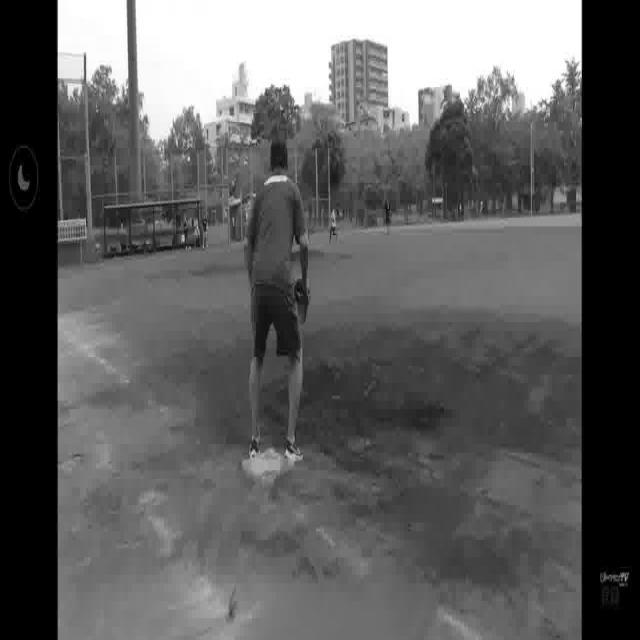base: (243, 445, 292, 490)
baseball_glove: (295, 274, 312, 331)
shoe: (282, 434, 308, 471), (247, 436, 263, 462)
